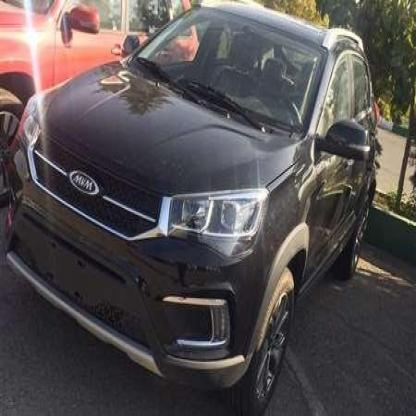Car: (23, 0, 374, 416), (0, 0, 206, 239)
